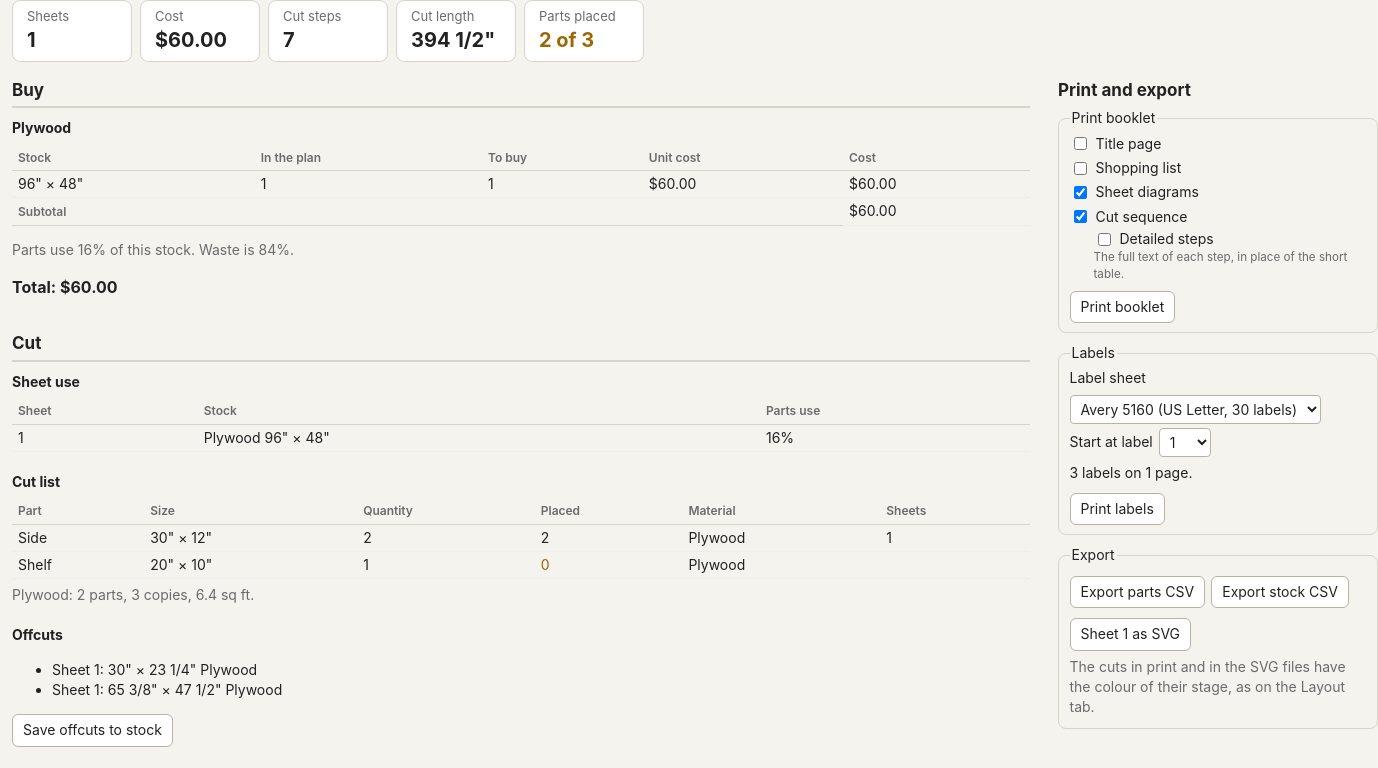
Scenario: ReportsTab › loads the saved booklet choice and needs a section with content to print
What coordinates should you click on to do the following:
click the checkbox labelled "Title page"
I would click on:
 (1080, 144)
Its box is 1074,137 -> 1086,150.
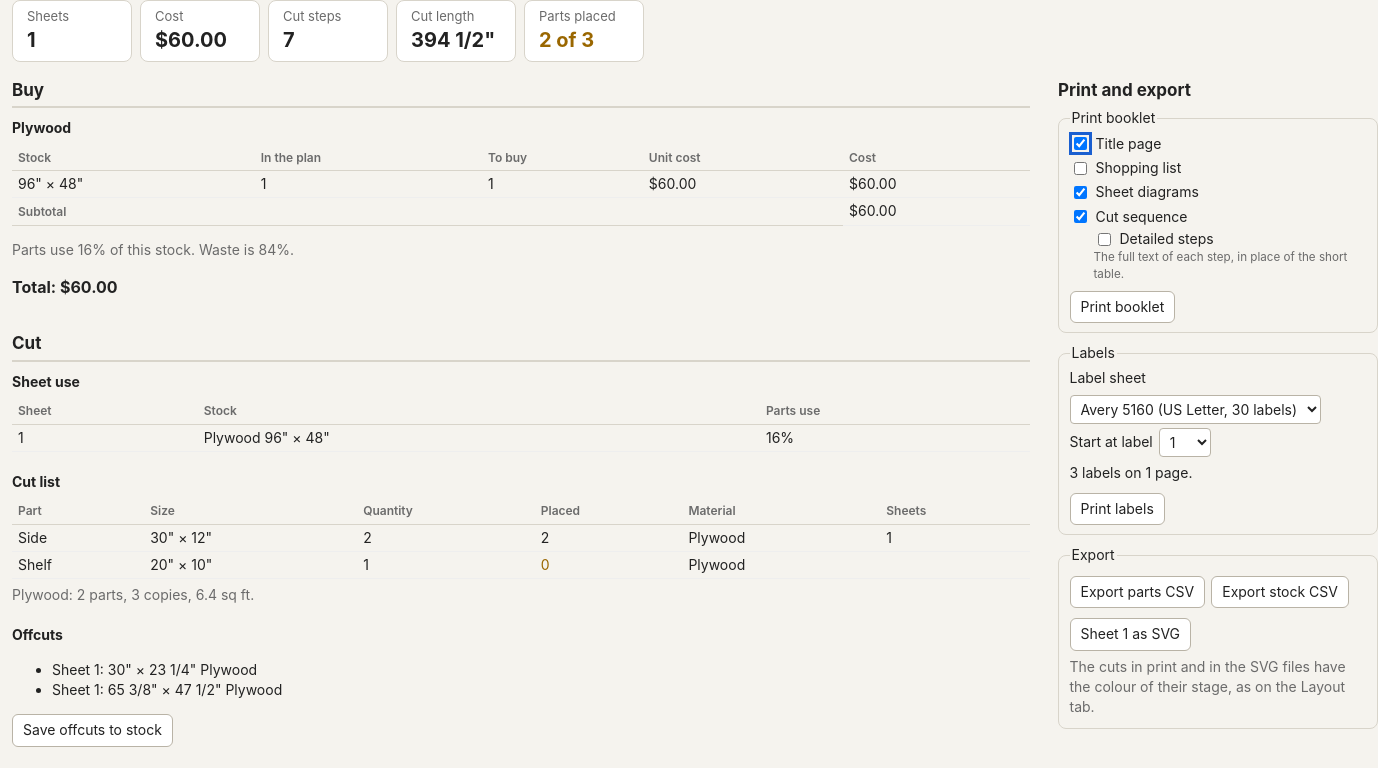
What coordinates should you click on to do the following:
click the checkbox labelled "Sheet diagrams"
I would click on:
 (1080, 192)
Its box is 1074,186 -> 1086,199.
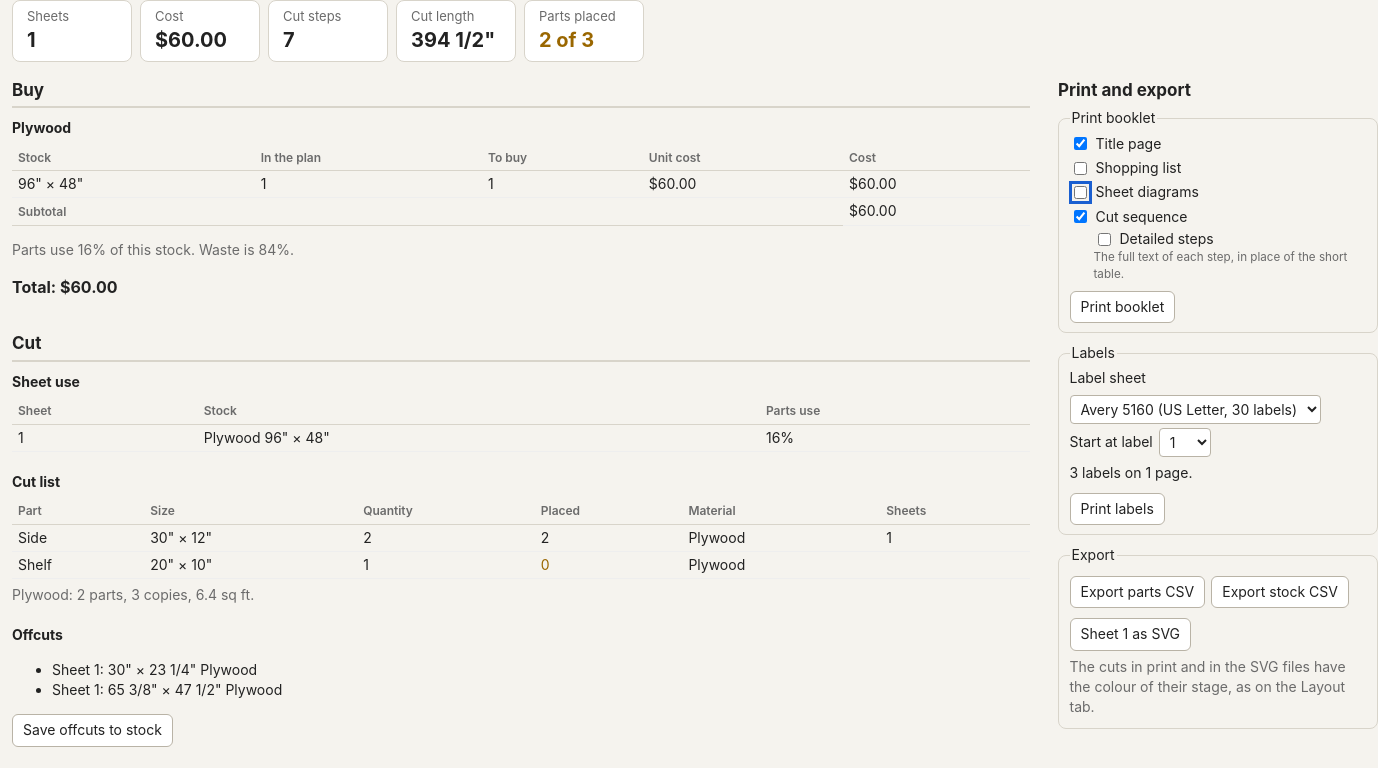
What coordinates should you click on to do the following:
click the checkbox labelled "Cut sequence"
I would click on:
 (1080, 217)
Its box is 1074,210 -> 1086,223.
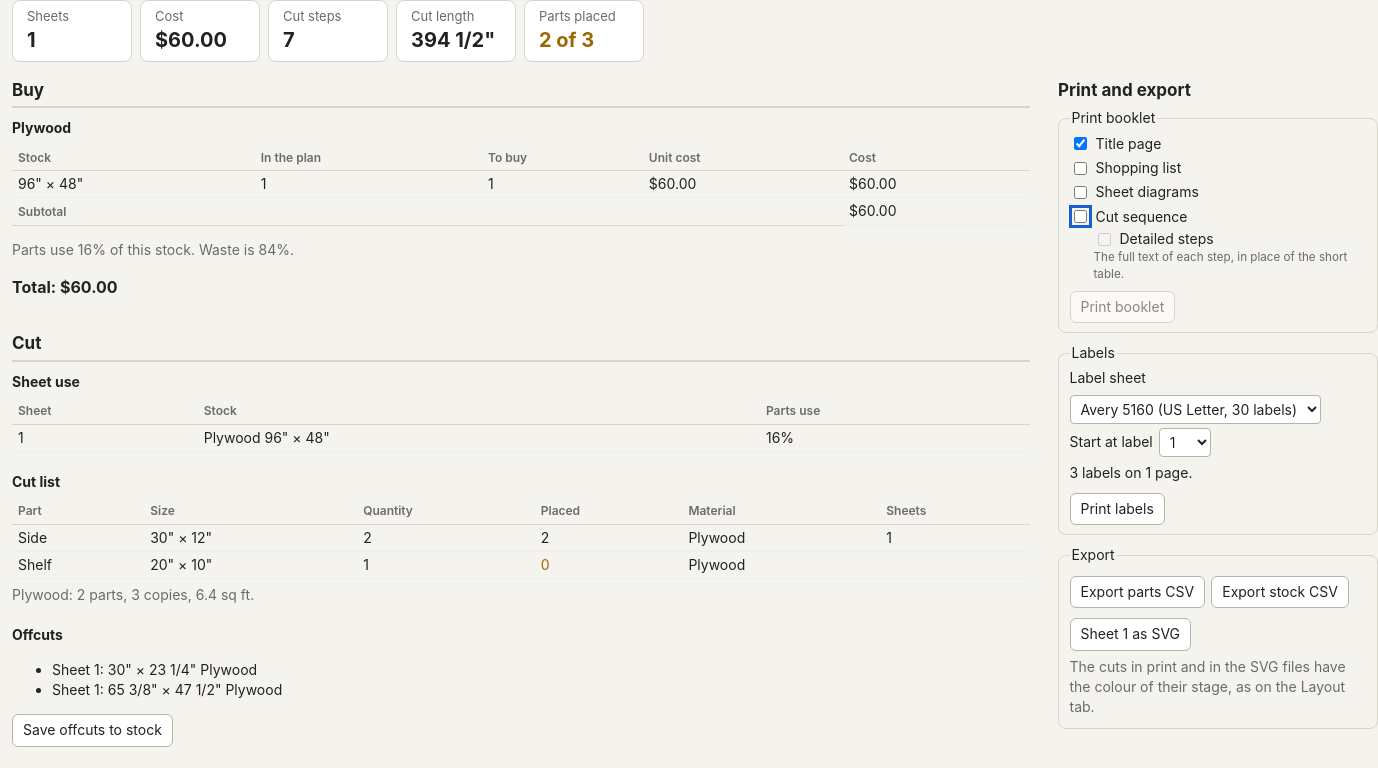
expect the button "Print booklet" is disabled: met, box 1070,291 -> 1175,323
